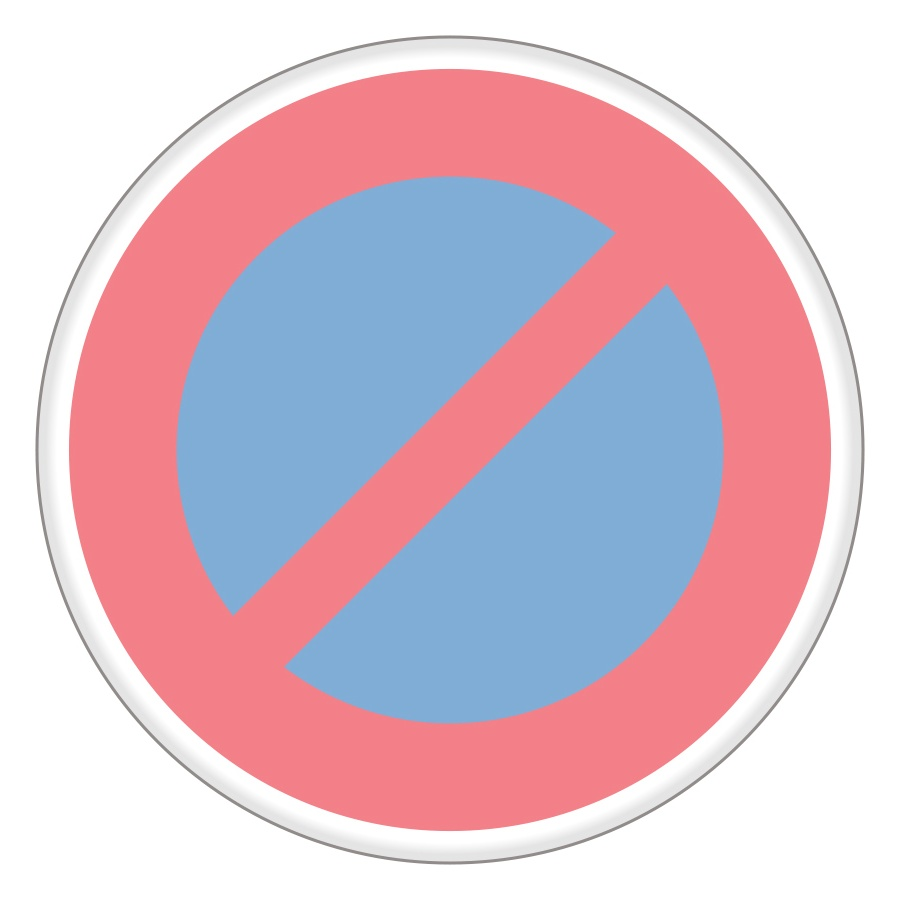Prohibition_sign: (12, 19, 896, 877)
